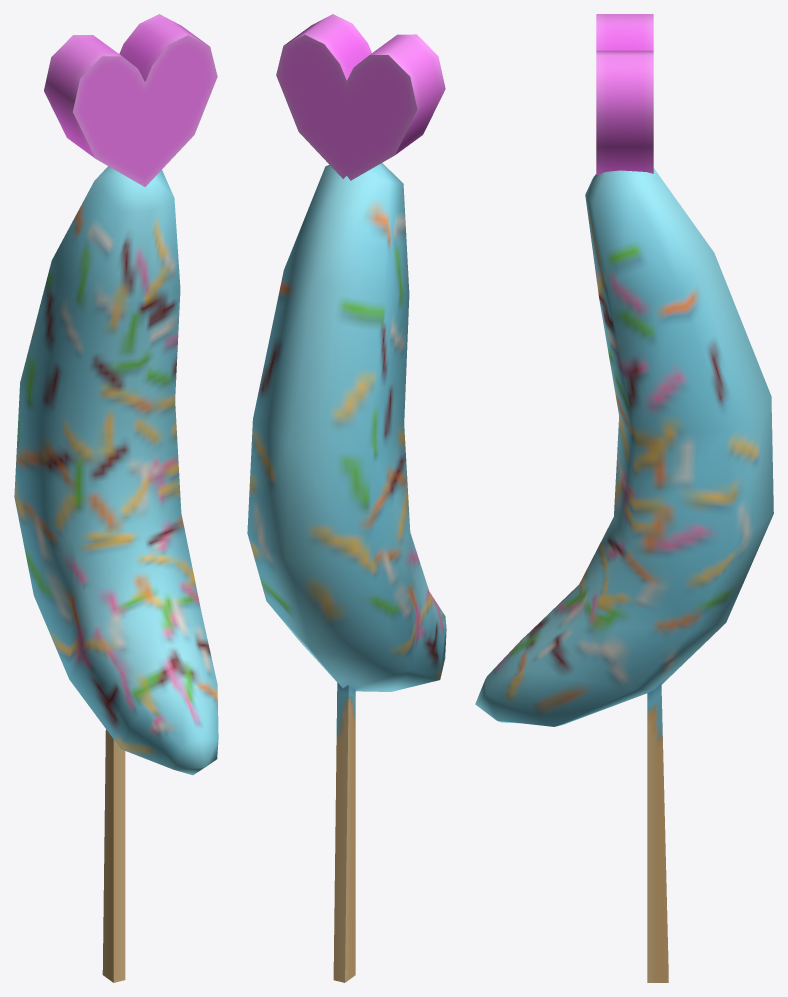
The model's file is jsf_ChocolateBanana_a05_c03.fbx.
3 renders of one model, left to right at view 1: azimuth 30°, elevation 25°; view 2: azimuth 150°, elevation 25°; view 3: azimuth 270°, elevation 25°, orthographic. The views are drawn at different scales.
Visible parts, largest first — view 1: jsf_ChocolateBanana_a05_c03; view 2: jsf_ChocolateBanana_a05_c03; view 3: jsf_ChocolateBanana_a05_c03.
Boxes of the visible parts, x1=… form: jsf_ChocolateBanana_a05_c03: x1=14, y1=14, x2=218, y2=982; jsf_ChocolateBanana_a05_c03: x1=247, y1=14, x2=446, y2=982; jsf_ChocolateBanana_a05_c03: x1=475, y1=14, x2=773, y2=982.
Size of the model in its own units: 4.34 by 27.32 by 7.83.
